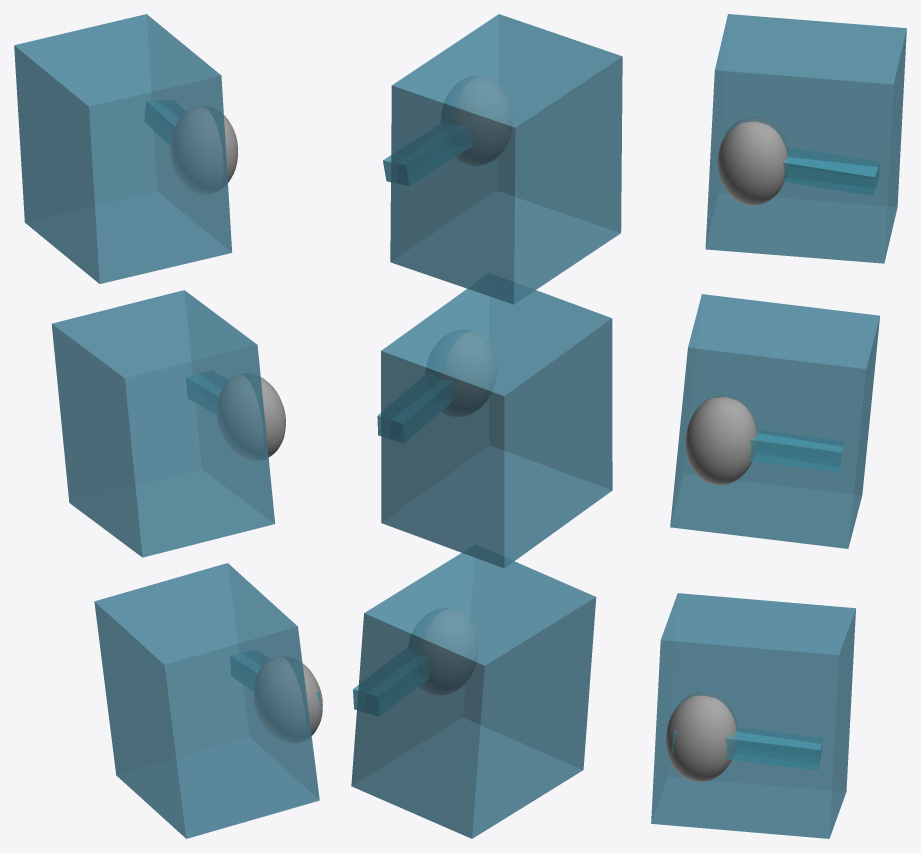
The model's file is lazer hologram puzzle lock hologram end point blocks for the lazer.fbx.
The picture shows the model from 3 angles, left to right: view 1: azimuth 30°, elevation 25°; view 2: azimuth 150°, elevation 25°; view 3: azimuth 270°, elevation 25°; orthographic projection. The views are drawn at different scales.
Parts seen in each view (by area): view 1: 0587a634-ba1d-41d3-8129-4bc5b8b102a1; view 2: 0587a634-ba1d-41d3-8129-4bc5b8b102a1; view 3: 0587a634-ba1d-41d3-8129-4bc5b8b102a1.
Boxes of the visible parts, left/top/right/bottom form: 0587a634-ba1d-41d3-8129-4bc5b8b102a1: left=14, top=14, right=322, bottom=838; 0587a634-ba1d-41d3-8129-4bc5b8b102a1: left=351, top=14, right=622, bottom=838; 0587a634-ba1d-41d3-8129-4bc5b8b102a1: left=651, top=14, right=906, bottom=838.
Bounding box in the file's own units: 9489 × 30994 × 9696.
